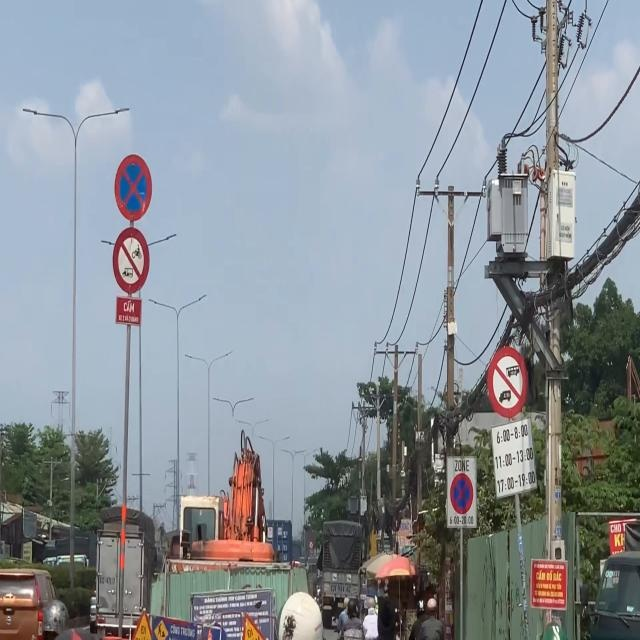bien_cam: (114, 154, 152, 222), (450, 473, 473, 514)
